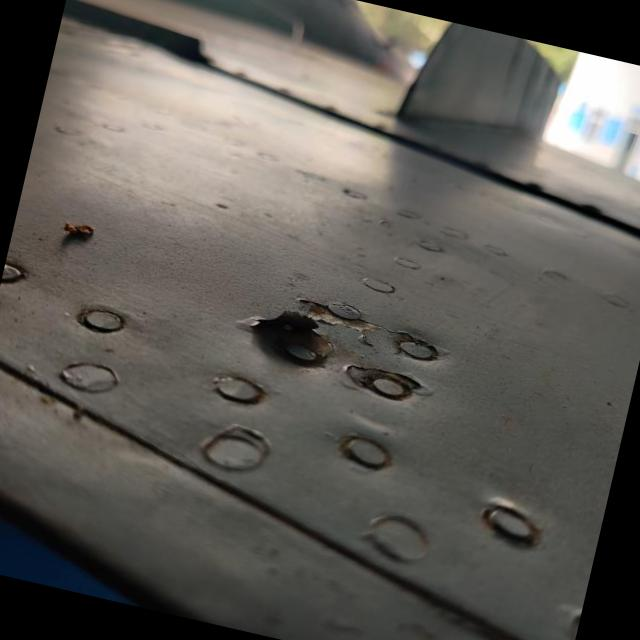Paint-off: (238, 300, 360, 367)
